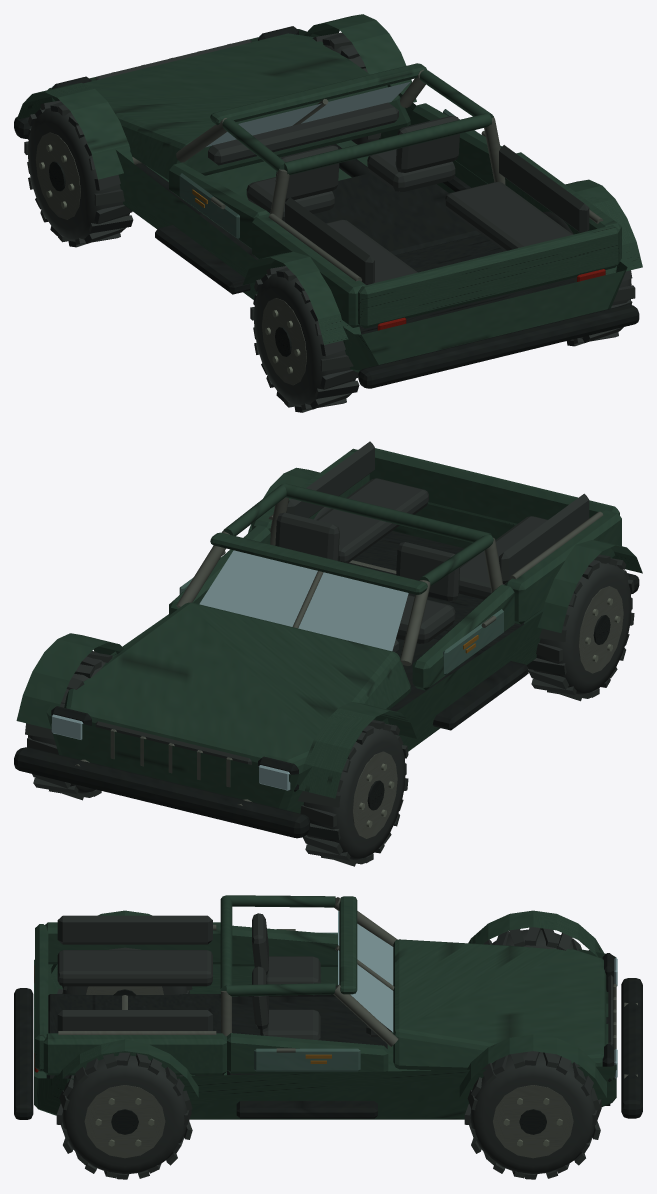
File: convoy-scout.glb
The picture shows the model from 3 angles, top to bottom: view 1: azimuth 30°, elevation 25°; view 2: azimuth 150°, elevation 25°; view 3: azimuth 270°, elevation 25°; orthographic projection. The views are drawn at different scales.
Parts seen in each view (by area): view 1: Chassis, Wheel_RL, Wheel_FL, Wheel_RR, Wheel_FR; view 2: Chassis, Wheel_FL, Wheel_RL, Wheel_FR; view 3: Chassis, Wheel_FR, Wheel_RR, Wheel_FL, Wheel_RL.
Part boxes in pixels (x1=…): Chassis: x1=14, y1=14, x2=642, y2=388; Wheel_RL: x1=250, y1=266, x2=359, y2=412; Wheel_FL: x1=24, y1=100, x2=133, y2=247; Wheel_RR: x1=542, y1=211, x2=635, y2=346; Wheel_FR: x1=312, y1=32, x2=381, y2=144; Chassis: x1=14, y1=441, x2=642, y2=838; Wheel_FL: x1=298, y1=720, x2=408, y2=866; Wheel_RL: x1=526, y1=554, x2=634, y2=701; Wheel_FR: x1=25, y1=651, x2=112, y2=800; Chassis: x1=14, y1=895, x2=642, y2=1119; Wheel_FR: x1=464, y1=1051, x2=601, y2=1179; Wheel_RR: x1=56, y1=1052, x2=192, y2=1179; Wheel_FL: x1=483, y1=927, x2=590, y2=950; Wheel_RL: x1=57, y1=947, x2=192, y2=995.
Size of the model in its own units: 2.62 by 1.47 by 4.9.
Materials: 3 (1 with a texture image).
